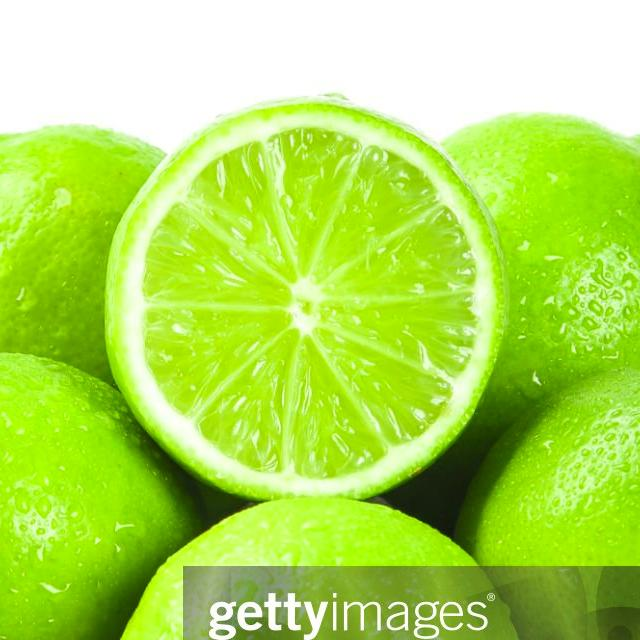lime: (0, 357, 224, 640)
